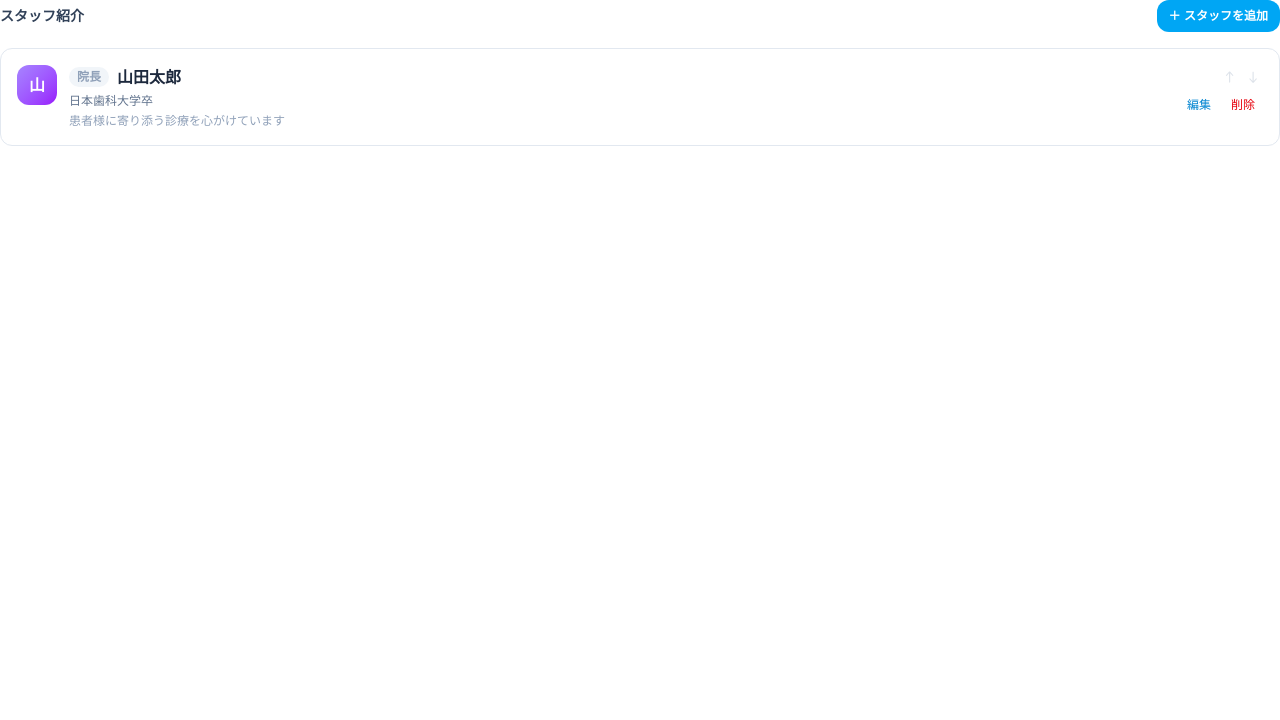
ClinicStaffManager › 編集すると内容が更新される
The width and height of the screenshot is (1280, 720).
Expected: the text "山田太郎" is shown, [117,65,181,89]
Click the button "編集". click: (1199, 105)
box: [1179,93,1219,117]
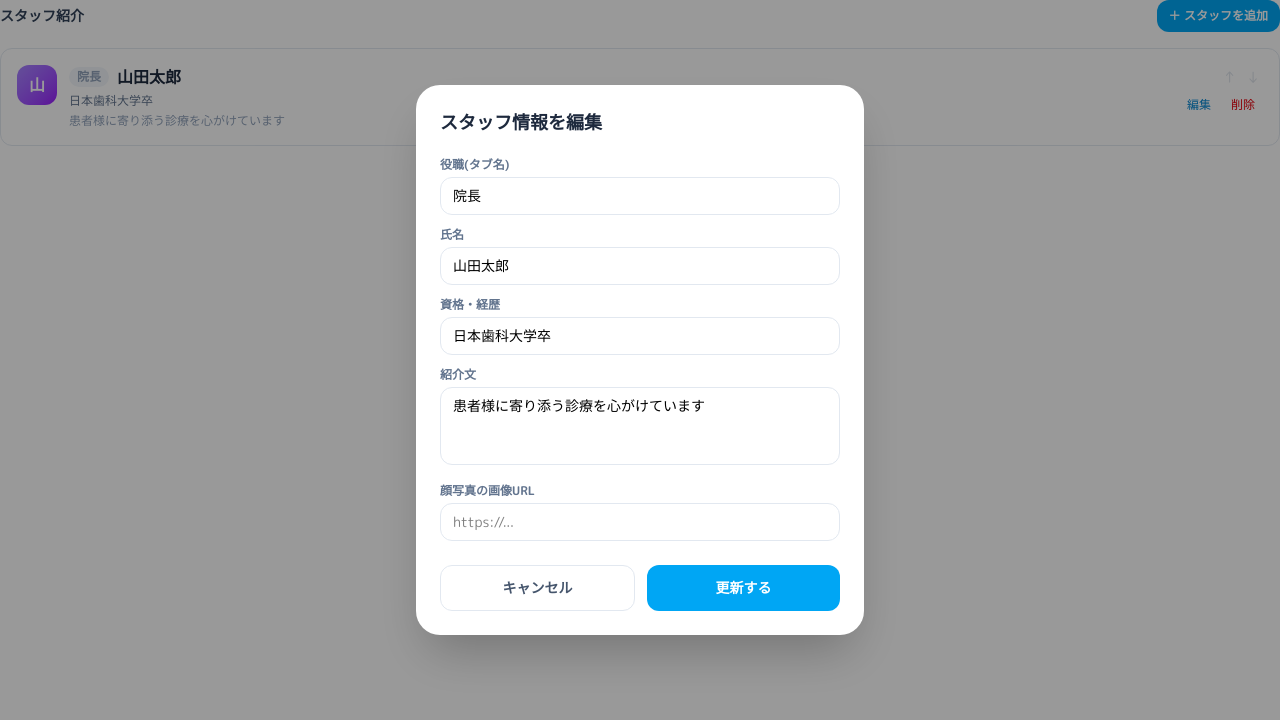
Replace the text in the field with placeholder "例）山田太郎" below "氏名" with "山田次郎". click: (640, 266)
box: [440,247,840,285]
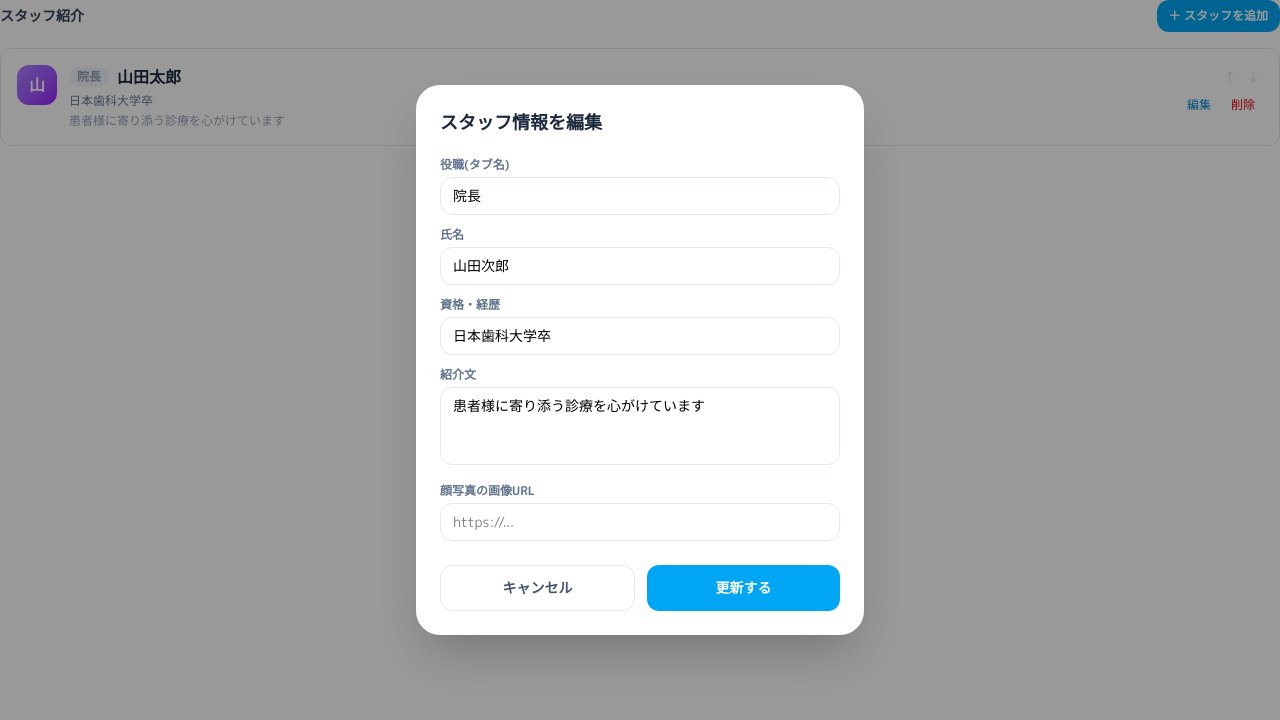
Click the button "更新する". click: (744, 588)
box: [647,565,840,611]
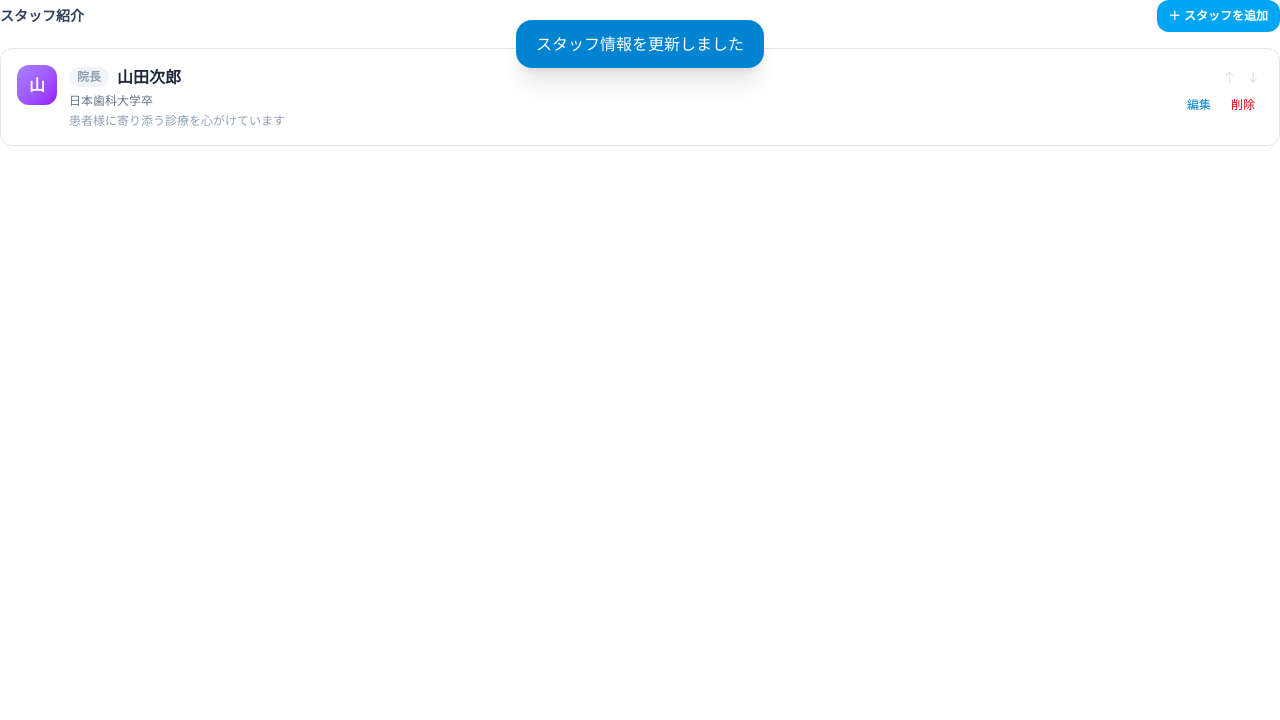
Expected: the text "スタッフ情報を更新しました" is shown, [516,20,764,68]
Expected: the text "山田次郎" is shown, [117,65,181,89]
